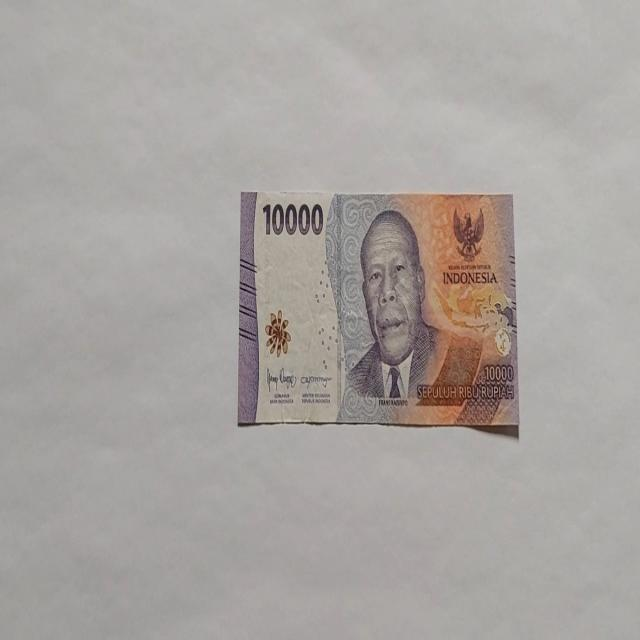sepuluh ribu rupiah: (236, 188, 520, 432), (337, 207, 487, 425)
